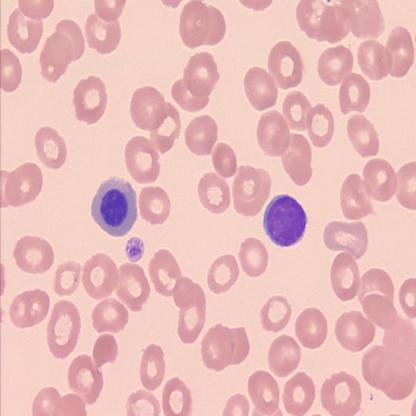NRC: (88, 177, 140, 238), (263, 192, 309, 252)
